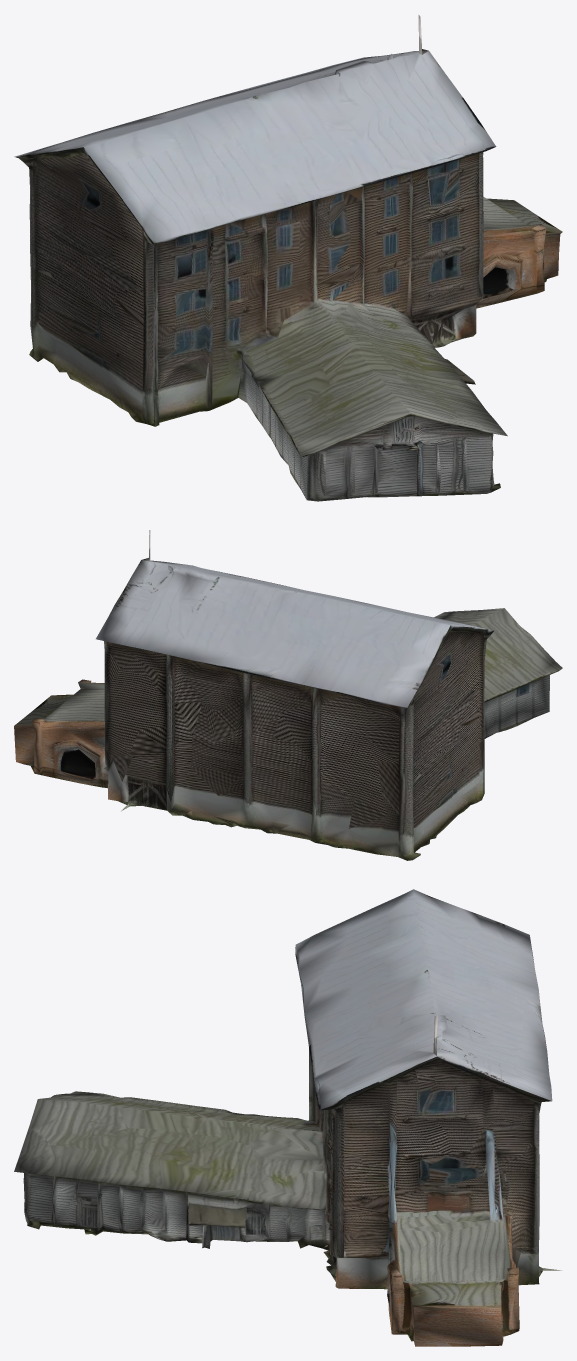
Rendered from shed.glb.
The picture shows the model from 3 angles, top to bottom: view 1: azimuth 30°, elevation 25°; view 2: azimuth 150°, elevation 25°; view 3: azimuth 270°, elevation 25°; orthographic projection. The views are drawn at different scales.
Parts seen in each view (by area): view 1: tripo_node_232caa9f-670c-40c1-8c6b-d3630e3d6c68; view 2: tripo_node_232caa9f-670c-40c1-8c6b-d3630e3d6c68; view 3: tripo_node_232caa9f-670c-40c1-8c6b-d3630e3d6c68.
Boxes of the visible parts, left/top/right/bottom form: tripo_node_232caa9f-670c-40c1-8c6b-d3630e3d6c68: left=14, top=15, right=562, bottom=501; tripo_node_232caa9f-670c-40c1-8c6b-d3630e3d6c68: left=14, top=530, right=562, bottom=860; tripo_node_232caa9f-670c-40c1-8c6b-d3630e3d6c68: left=14, top=889, right=561, bottom=1346.
Bounding box in the file's own units: 1.75 × 1 × 1.78.
Materials: 1 (1 with a texture image).
